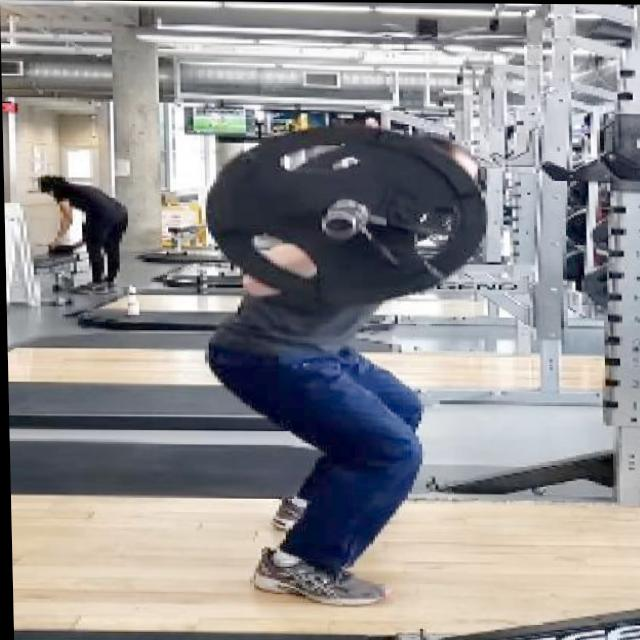barbell: (195, 118, 493, 306)
